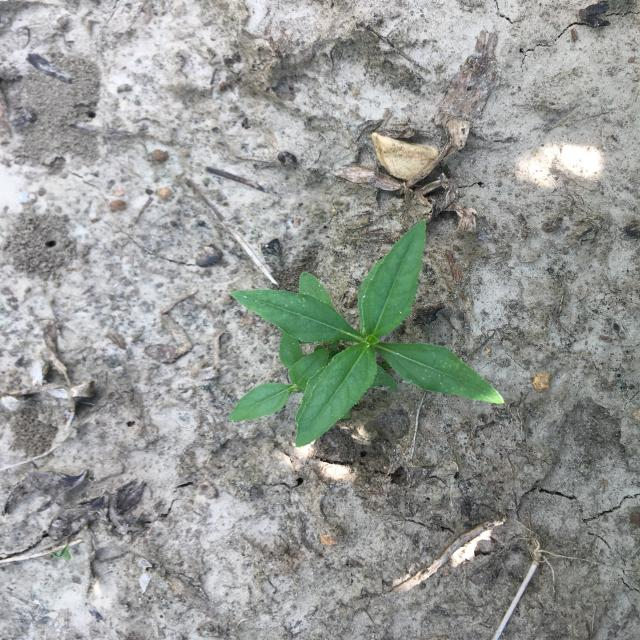Eclipta: (227, 219, 505, 447)
